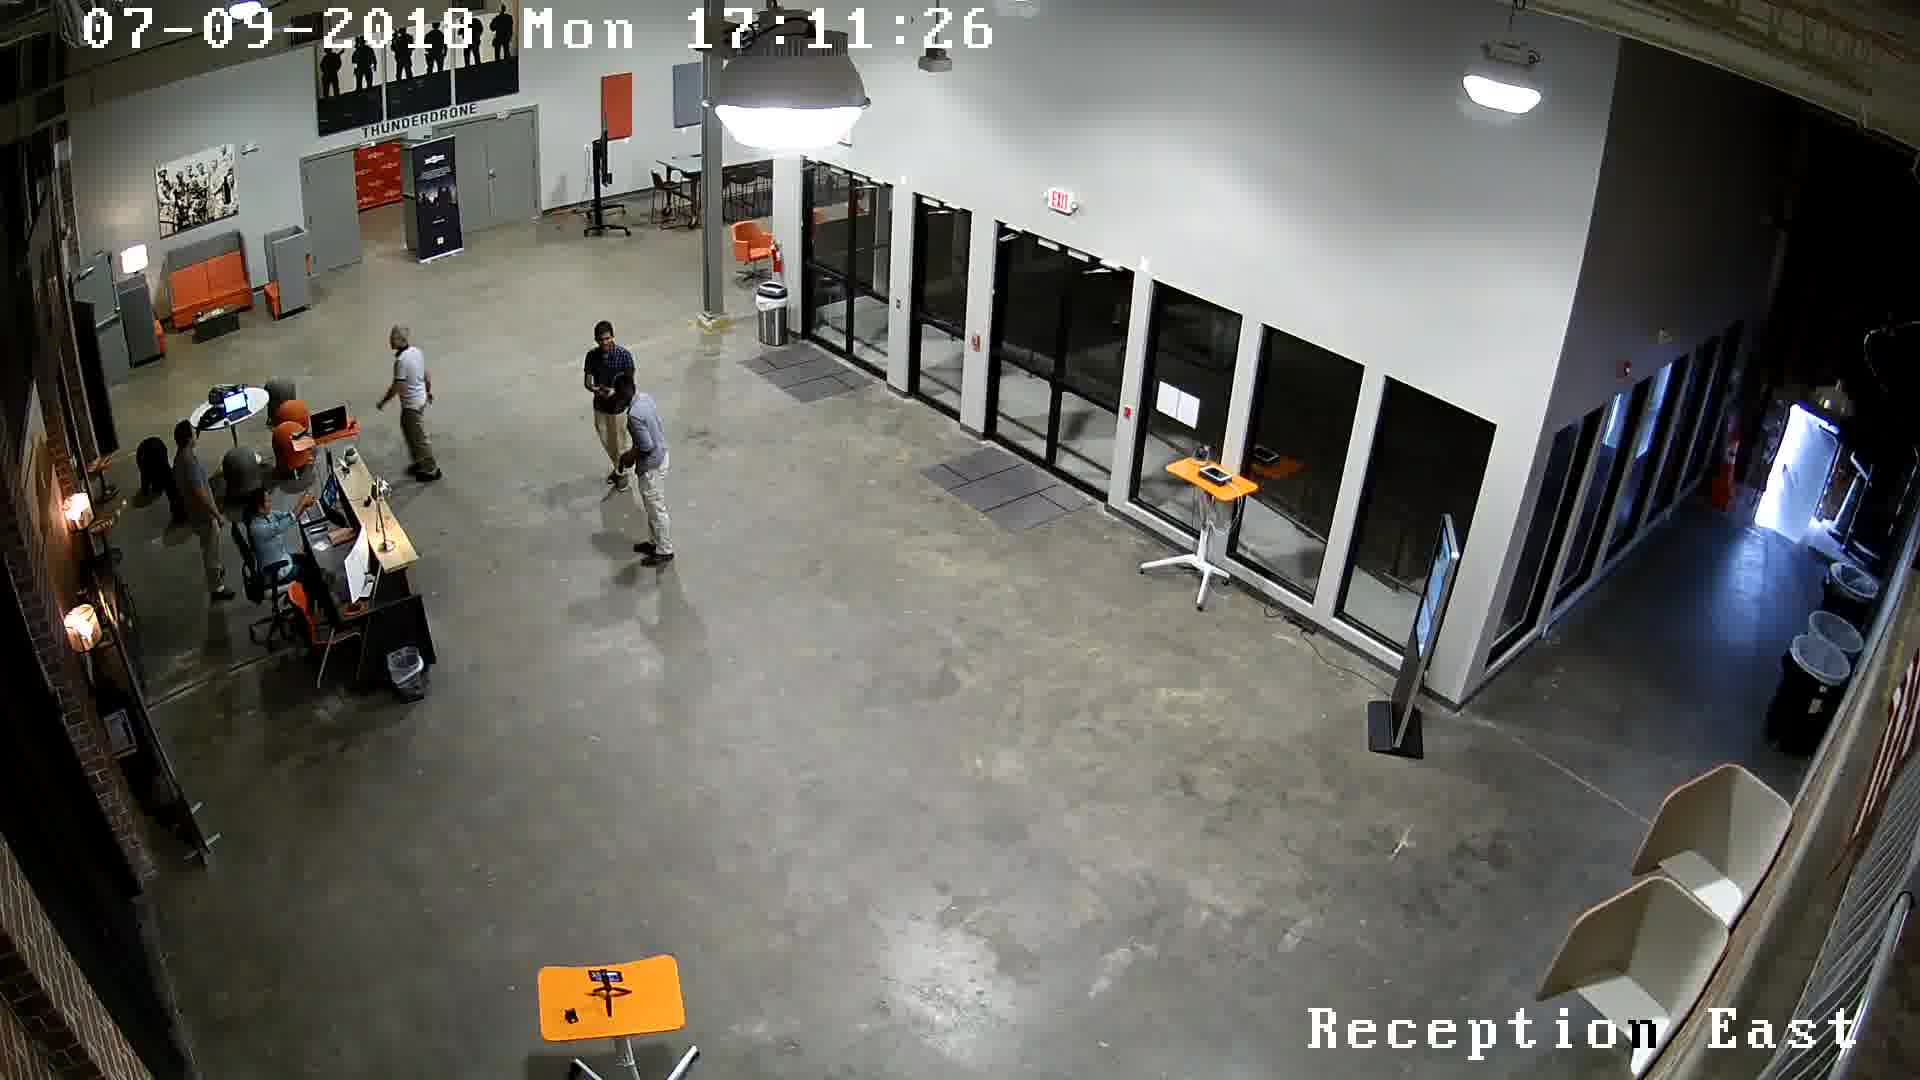pistol: (603, 454, 638, 481), (580, 381, 611, 407)
